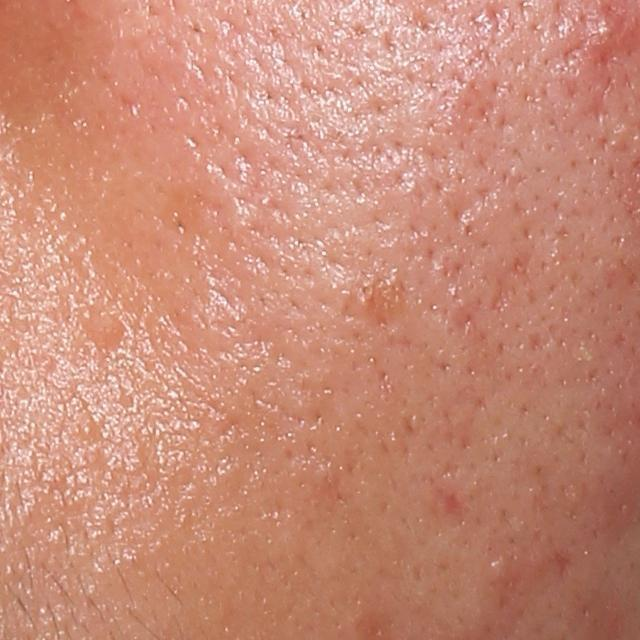comedo: (491, 555, 513, 578)
